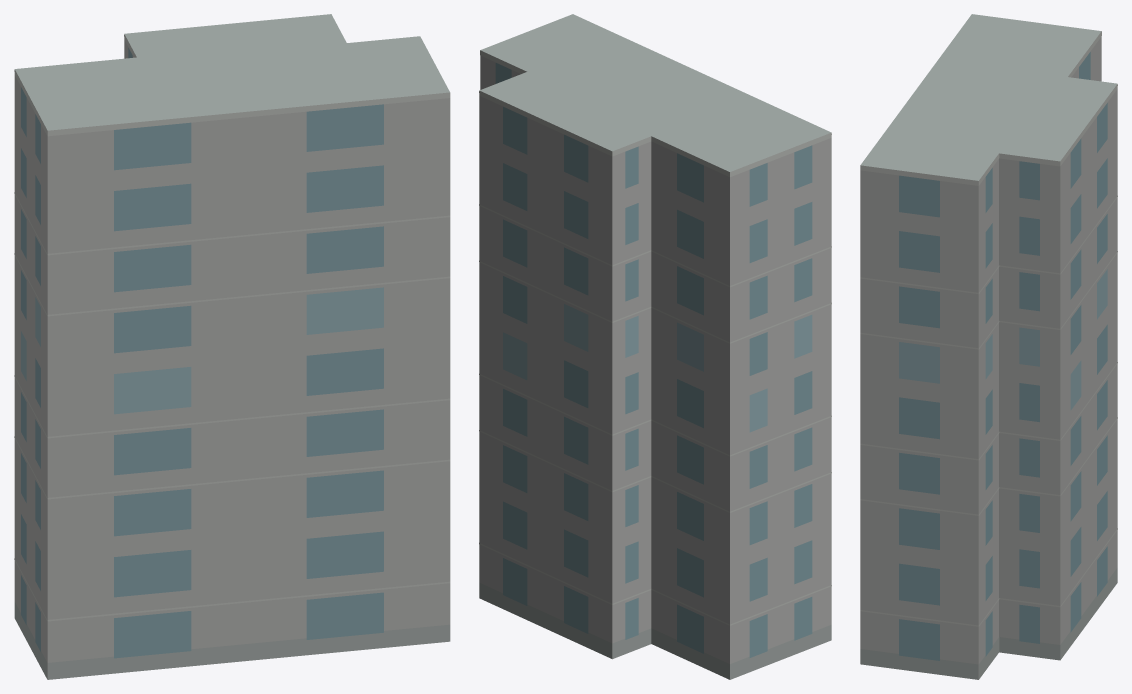
Rendered from survey-upis-32730096.glb.
3 renders of one model, left to right at view 1: azimuth 30°, elevation 25°; view 2: azimuth 150°, elevation 25°; view 3: azimuth 270°, elevation 25°, orthographic. The views are drawn at different scales.
Parts seen in each view (by area): view 1: survey-upis-32730096.tmp; view 2: survey-upis-32730096.tmp; view 3: survey-upis-32730096.tmp.
Part boxes in pixels (bbox=[...]): survey-upis-32730096.tmp: bbox=[14, 14, 450, 679]; survey-upis-32730096.tmp: bbox=[479, 14, 831, 679]; survey-upis-32730096.tmp: bbox=[860, 14, 1117, 679].
Bounding box in the file's own units: 17.31 × 24.1 × 11.29.
